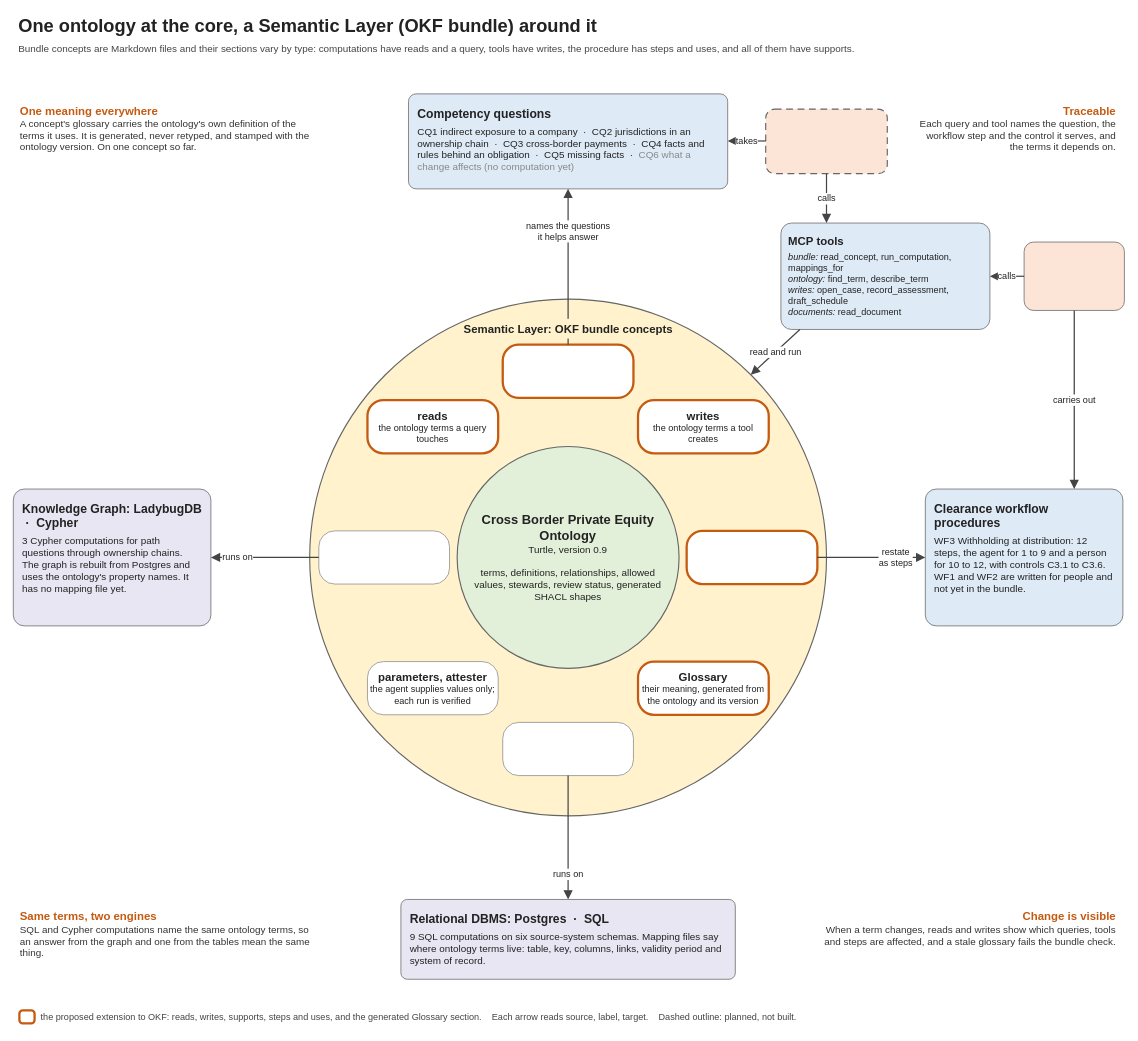
This 1138x1041 diagram has some shape labels left out. Here are the shapes that lost their labels. From the top down, the centre of each, then its label:
point (826, 141): LookThrough agent answers the questions (planned)
point (1073, 275): Clearance agent follows the WF3 procedure
point (567, 371): supports the questions and controls it serves
point (384, 557): Computation: Cypher one block, run exactly as written
point (751, 557): steps, uses who performs each step, and with which queries and tools
point (567, 749): Computation: SQL one block, run exactly as written
